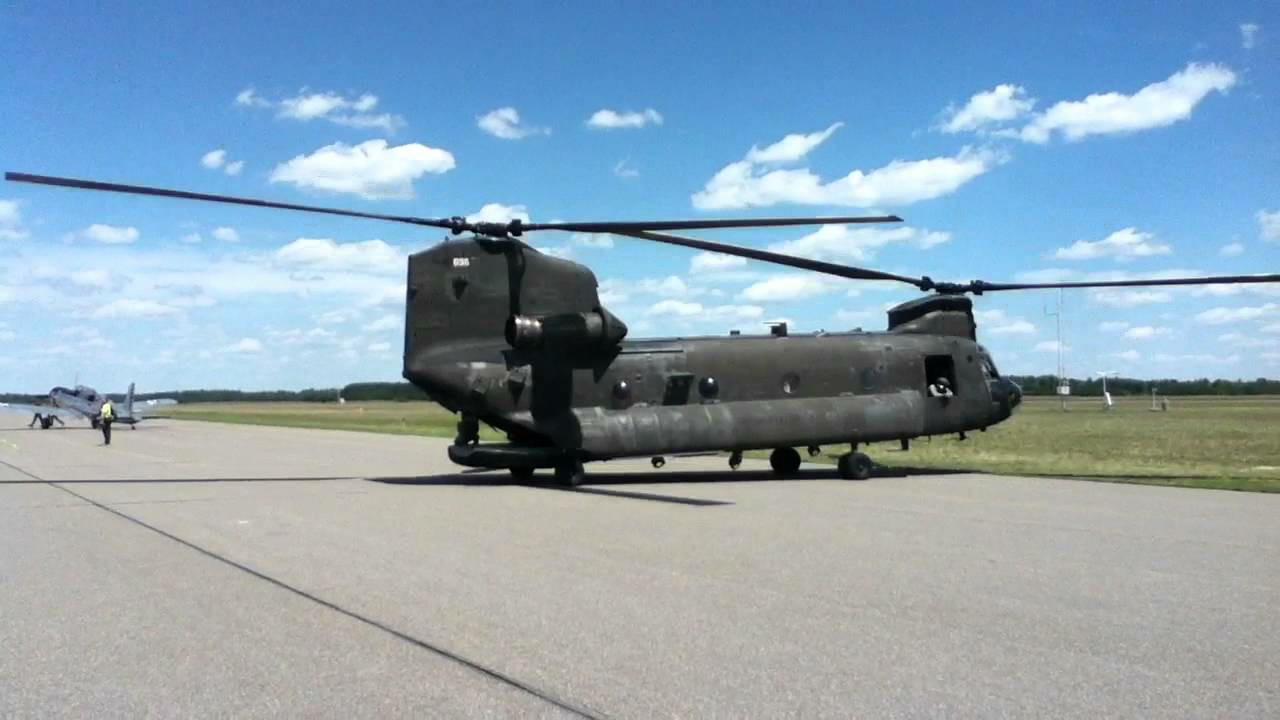chinook: (162, 194, 1256, 489)
